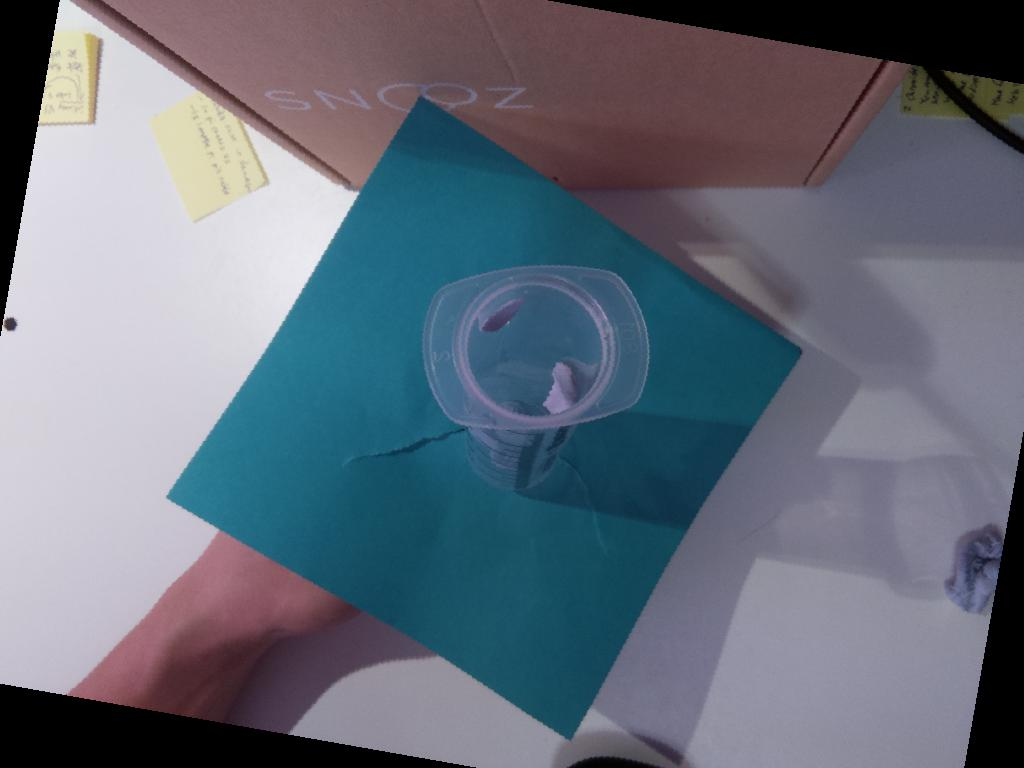dirty: (423, 265, 651, 427)
